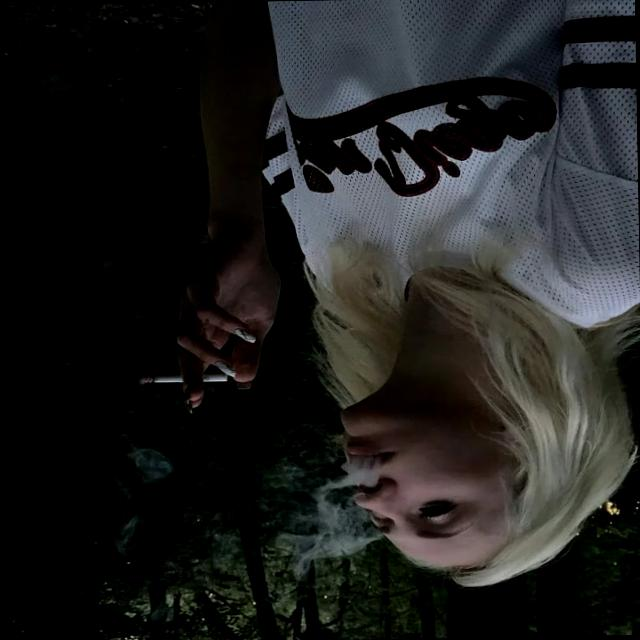cigarette: (138, 368, 233, 386)
